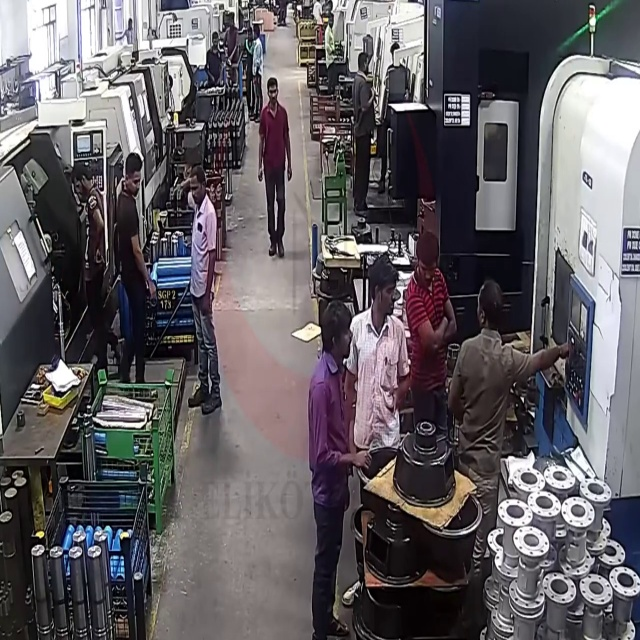safety_helmet: (391, 421, 457, 508)
